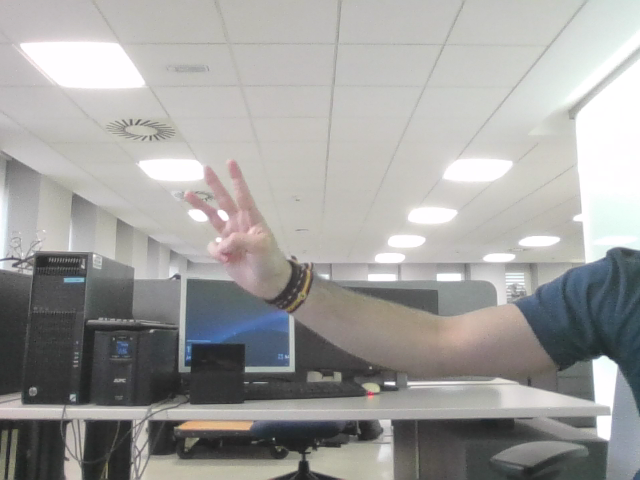3Dedos: (193, 169, 265, 258)
